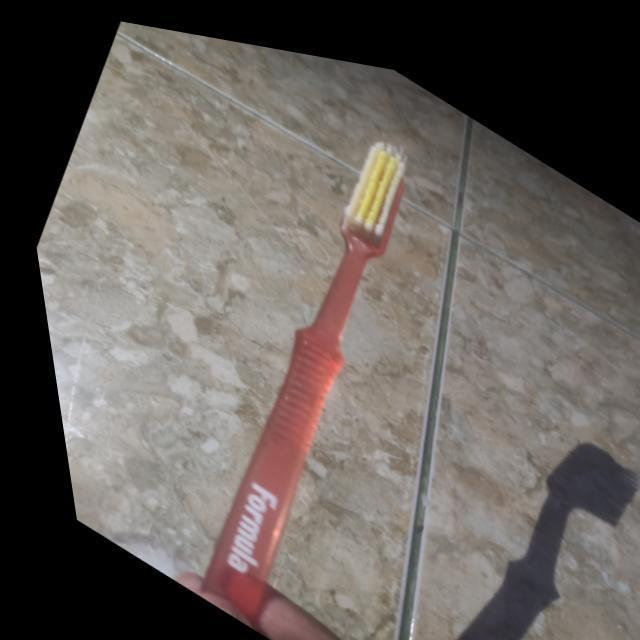toothbrush: (113, 74, 493, 640)
